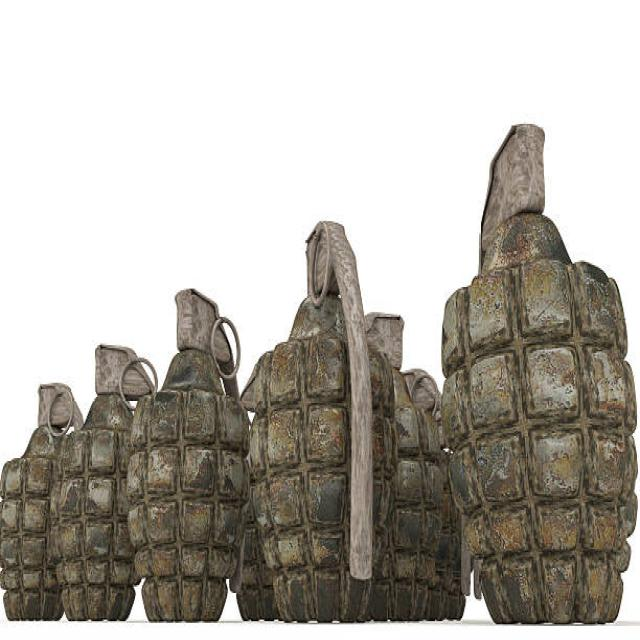grenade: (441, 117, 640, 630), (241, 215, 392, 626), (131, 289, 249, 631), (57, 338, 154, 623)
